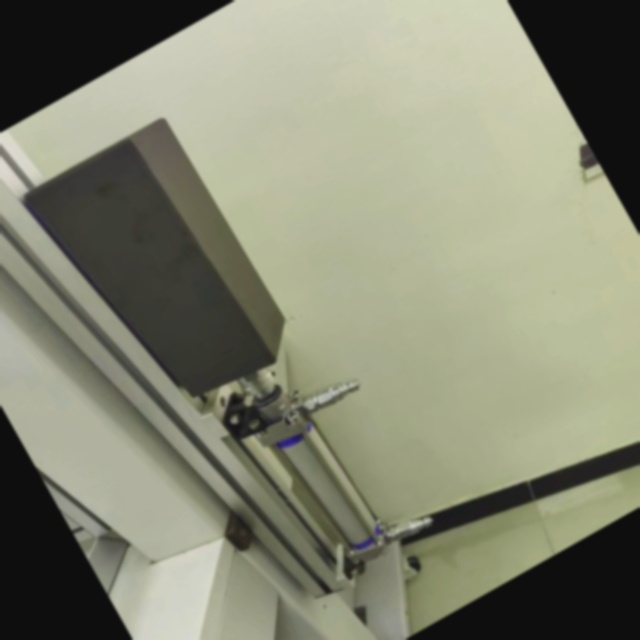load: (4, 88, 450, 640)
